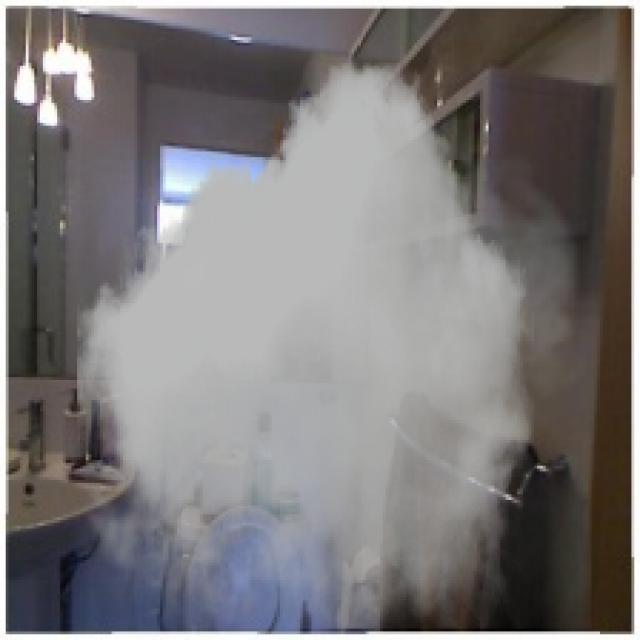Smoke: (69, 62, 592, 628)
